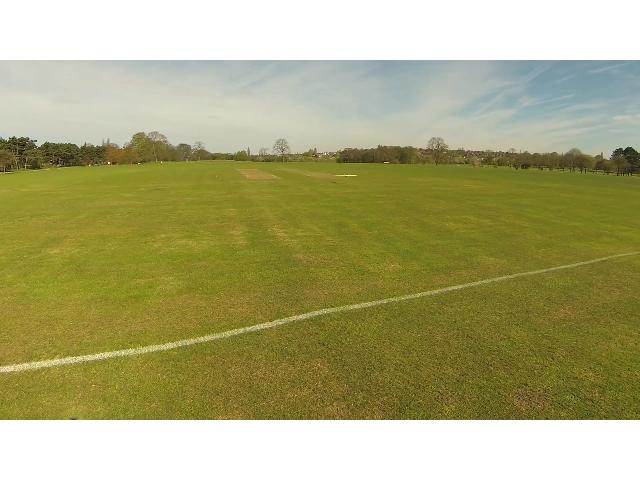Anti-Drone: (326, 166, 366, 182)
